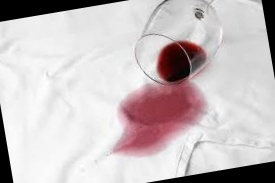wine: (106, 78, 211, 154)
